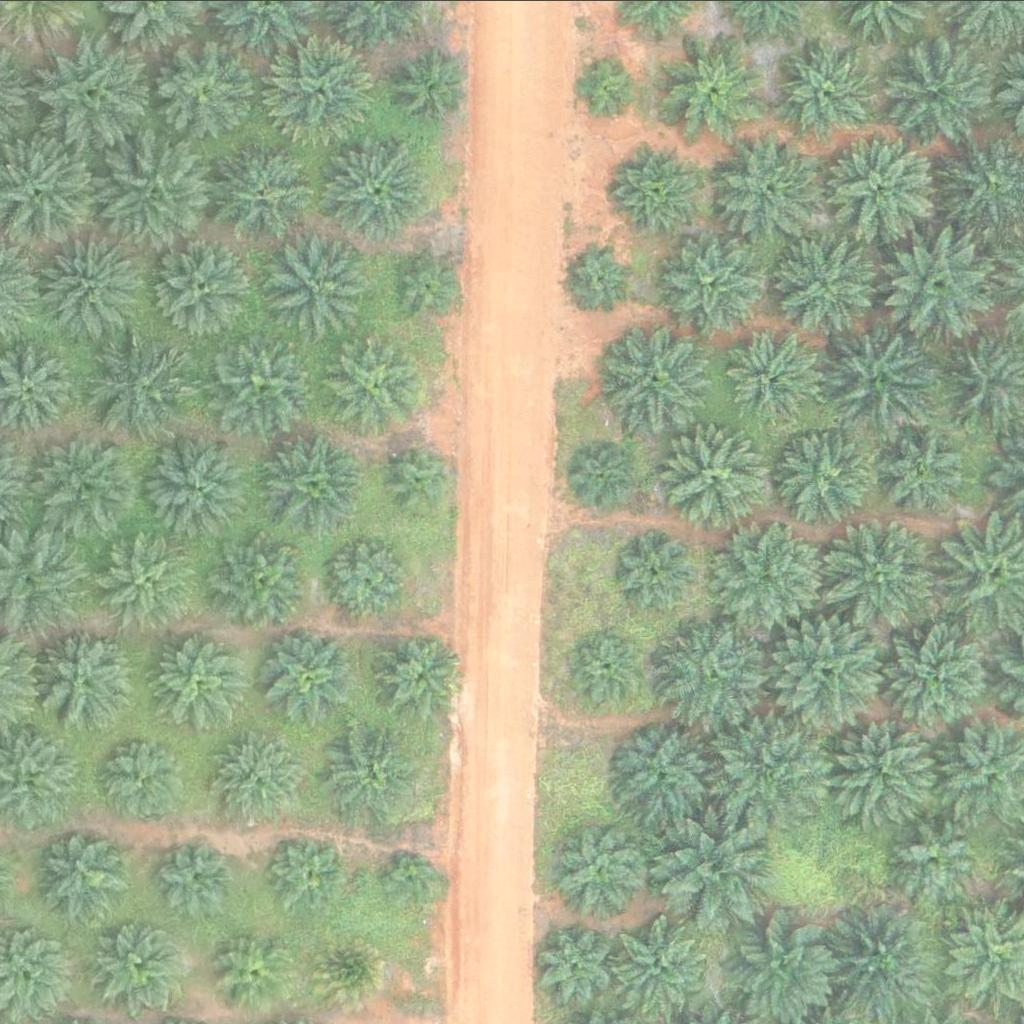Kelapa_Sawit: (653, 807, 779, 932), (712, 704, 838, 829), (877, 610, 1003, 735), (819, 509, 945, 634), (810, 318, 936, 443), (879, 218, 1005, 343), (822, 122, 947, 247), (36, 33, 150, 146), (830, 710, 944, 823), (712, 518, 825, 631), (768, 616, 882, 728), (270, 32, 383, 144), (102, 137, 215, 249), (825, 904, 938, 1016), (653, 621, 766, 733), (218, 141, 319, 241), (325, 137, 426, 237), (41, 235, 142, 335), (154, 234, 255, 334), (263, 234, 364, 334), (86, 335, 187, 435), (212, 333, 313, 433), (324, 333, 425, 433), (36, 427, 137, 527), (144, 433, 245, 533), (266, 432, 367, 532), (93, 526, 194, 626), (210, 527, 311, 627), (35, 628, 136, 728), (151, 629, 252, 729), (662, 426, 763, 526), (777, 427, 878, 527), (603, 324, 704, 424), (724, 330, 825, 430), (660, 233, 761, 333), (772, 233, 873, 333), (717, 138, 818, 238), (664, 36, 765, 136), (779, 41, 880, 141), (893, 40, 994, 140), (158, 40, 258, 140), (368, 626, 468, 726), (318, 720, 418, 820), (610, 915, 710, 1015), (616, 725, 716, 825), (873, 420, 973, 520), (324, 533, 412, 621), (95, 919, 183, 1007), (891, 813, 979, 901), (264, 629, 352, 716), (95, 735, 183, 822), (207, 733, 295, 820), (44, 830, 132, 917), (531, 922, 619, 1009), (557, 828, 645, 915), (613, 140, 701, 227), (220, 932, 296, 1007), (159, 842, 235, 917), (574, 629, 650, 704), (383, 440, 459, 515), (268, 835, 344, 910), (309, 931, 385, 1006), (618, 532, 693, 607), (397, 48, 472, 123), (391, 244, 466, 319), (572, 443, 635, 506), (381, 846, 444, 908), (570, 244, 633, 306), (571, 58, 634, 120)
